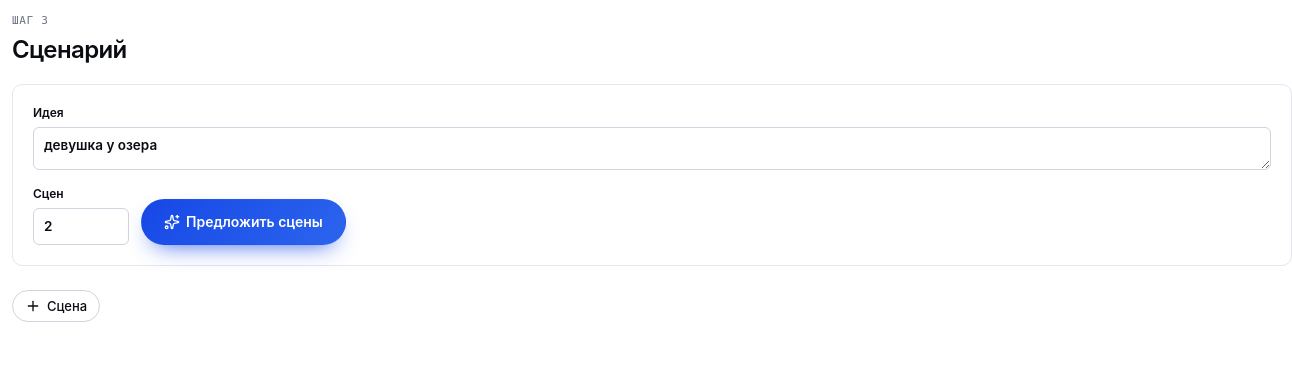
Test case: ScenarioStep › r1 №7: «Предложить сцены» with the LLM down shows the server's message and leaves the button usable
Click the button "Предложить сцены". click: click(243, 222)
box: [141, 200, 346, 246]
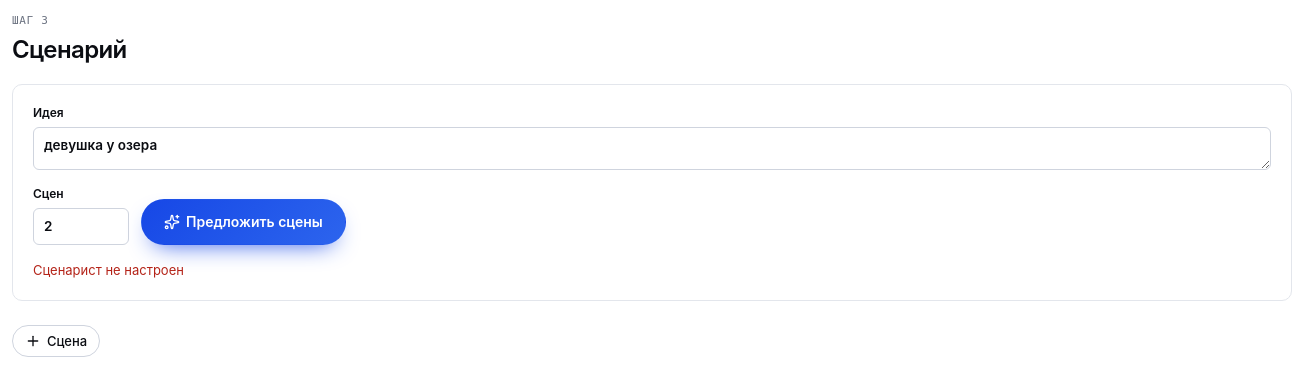
expect the message reads "Сценарист не настроен": met, box [33, 262, 184, 278]
